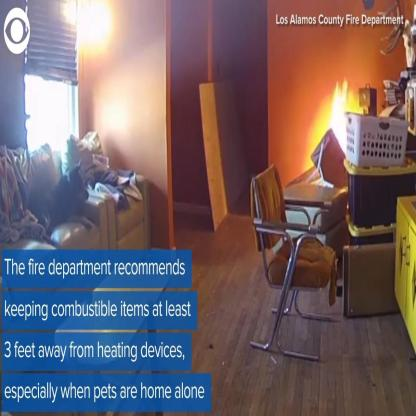fire: (328, 78, 363, 161)
